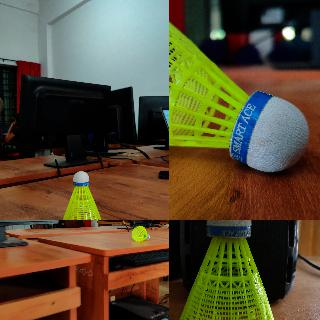shuttlecock: (169, 6, 309, 172), (176, 220, 276, 319), (61, 171, 101, 219), (130, 224, 150, 242)
